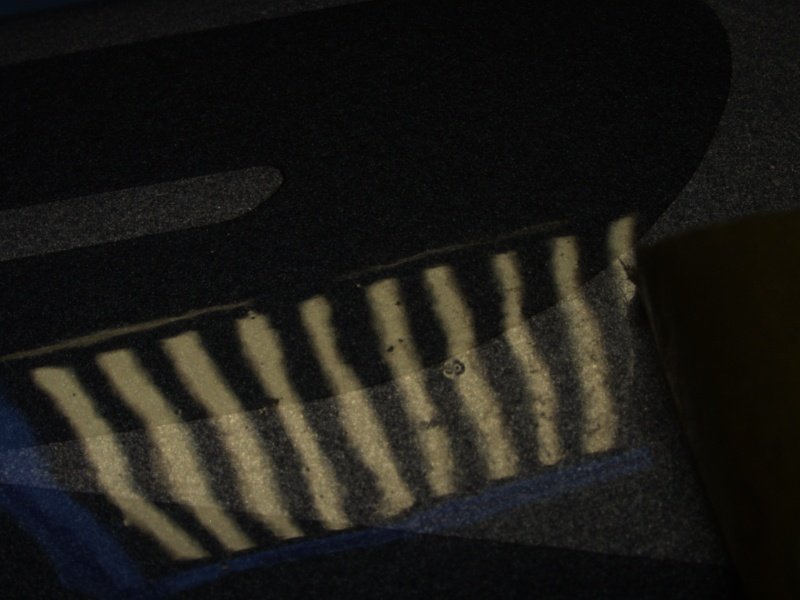bad: (434, 348, 474, 391)
